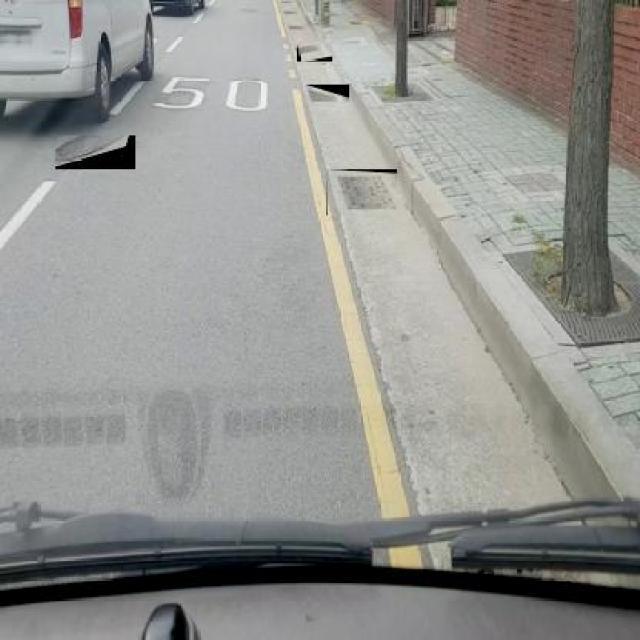Manhole: (327, 170, 398, 216), (56, 136, 136, 169), (304, 85, 350, 102), (296, 44, 332, 61)
